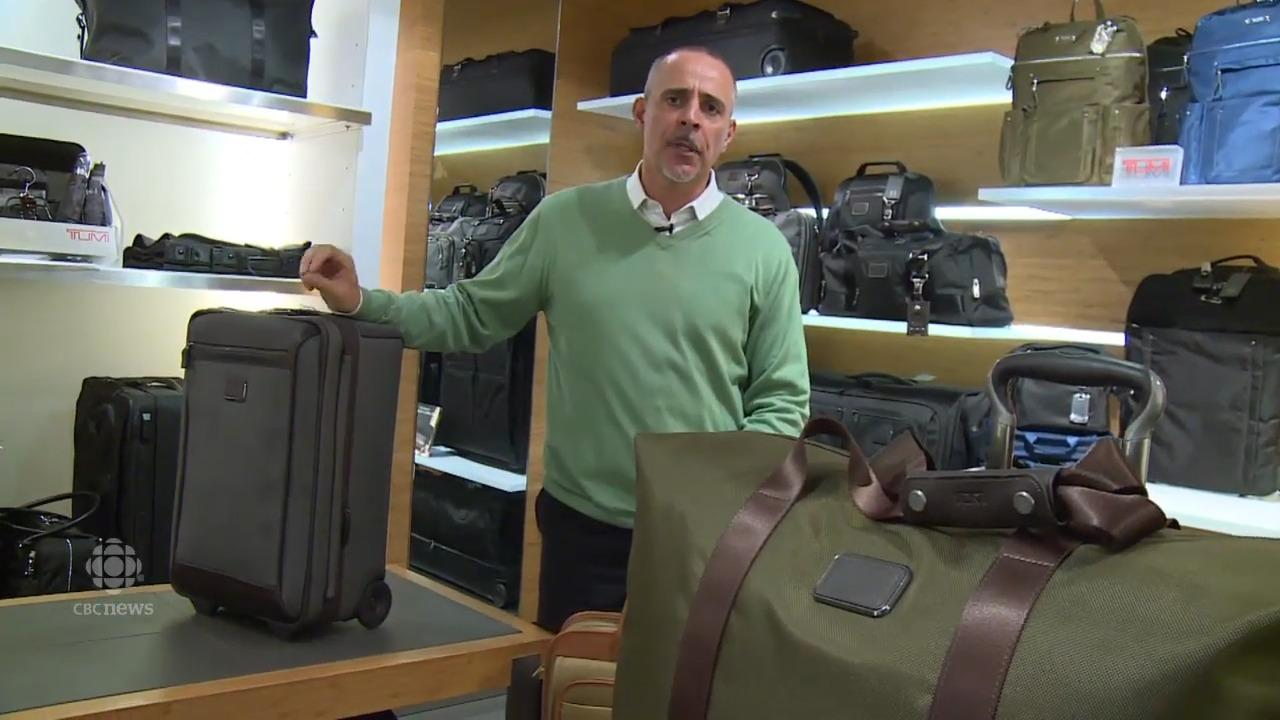luggage: (176, 304, 403, 638), (72, 0, 313, 104), (613, 0, 859, 95), (73, 378, 182, 587), (805, 370, 997, 478), (405, 466, 525, 610), (433, 326, 539, 476), (542, 611, 627, 720), (436, 50, 555, 123)
